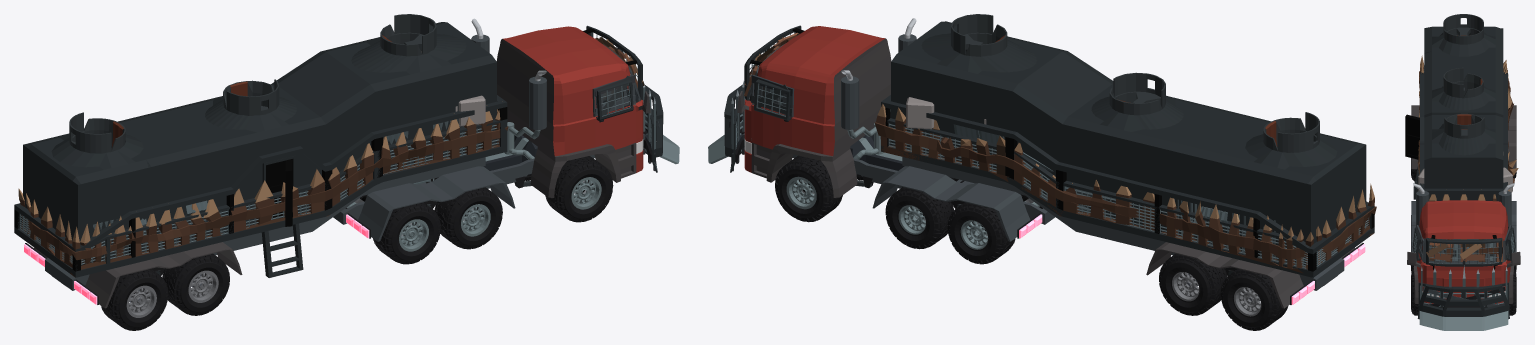
File: Truck.fbx
3 renders of one model, left to right at view 1: azimuth 30°, elevation 25°; view 2: azimuth 150°, elevation 25°; view 3: azimuth 270°, elevation 25°, orthographic. The views are drawn at different scales.
Parts seen in each view (by area): view 1: Fire_tower.001, Fire_tower, CABIN, Frame, Frame.003, Плоскость.007, Fenders, Frame.001, Fenders.001, Weapon_Turret.003, Tire.018, Tire.010 (+28 smaller); view 2: Fire_tower.001, Fire_tower, CABIN, Frame, Frame.003, Плоскость.007, Fenders, Frame.001, Fenders.001, Tire.017, Tire.019, Weapon_Turret.004 (+24 smaller); view 3: Fire_tower.001, CABIN, Fire_tower, Solide_Metal, Frame.003, Front_Grid, Weapon_Turret, Boards, Weapon_Turret.004, Weapon_Turret.003, Boards_Metal, Frame (+16 smaller).
Part boxes in pixels (x1=…): Fire_tower.001: x1=111, y1=22, x2=496, y2=247; Fire_tower: x1=23, y1=26, x2=485, y2=265; CABIN: x1=496, y1=26, x2=650, y2=197; Frame: x1=18, y1=101, x2=508, y2=277; Frame.003: x1=14, y1=95, x2=507, y2=277; Плоскость.007: x1=17, y1=119, x2=507, y2=277; Fenders: x1=358, y1=166, x2=515, y2=241; Frame.001: x1=45, y1=157, x2=485, y2=290; Fenders.001: x1=34, y1=242, x2=242, y2=308; Weapon_Turret.003: x1=380, y1=14, x2=436, y2=56; Tire.018: x1=162, y1=254, x2=229, y2=315; Tire.010: x1=545, y1=156, x2=613, y2=222; Fire_tower.001: x1=891, y1=21, x2=1277, y2=247; Fire_tower: x1=902, y1=25, x2=1366, y2=265; CABIN: x1=737, y1=26, x2=891, y2=197; Frame: x1=874, y1=104, x2=1376, y2=273; Frame.003: x1=881, y1=95, x2=1374, y2=277; Плоскость.007: x1=887, y1=112, x2=1371, y2=276; Fenders: x1=872, y1=166, x2=1030, y2=241; Frame.001: x1=902, y1=157, x2=1344, y2=290; Fenders.001: x1=1146, y1=242, x2=1354, y2=308; Tire.017: x1=1159, y1=254, x2=1226, y2=315; Tire.019: x1=1220, y1=269, x2=1287, y2=330; Weapon_Turret.004: x1=1109, y1=72, x2=1165, y2=115; Fire_tower.001: x1=1424, y1=51, x2=1503, y2=200; CABIN: x1=1407, y1=200, x2=1520, y2=303; Fire_tower: x1=1424, y1=26, x2=1503, y2=200; Solide_Metal: x1=1419, y1=283, x2=1508, y2=330; Frame.003: x1=1420, y1=70, x2=1507, y2=194; Front_Grid: x1=1426, y1=235, x2=1502, y2=269; Weapon_Turret: x1=1443, y1=14, x2=1483, y2=44; Boards: x1=1426, y1=238, x2=1502, y2=262; Weapon_Turret.004: x1=1443, y1=67, x2=1483, y2=98; Weapon_Turret.003: x1=1444, y1=113, x2=1484, y2=138; Boards_Metal: x1=1421, y1=265, x2=1507, y2=307; Frame: x1=1417, y1=55, x2=1518, y2=201.
Bounding box in the file's own units: 2543 × 801 × 570.
